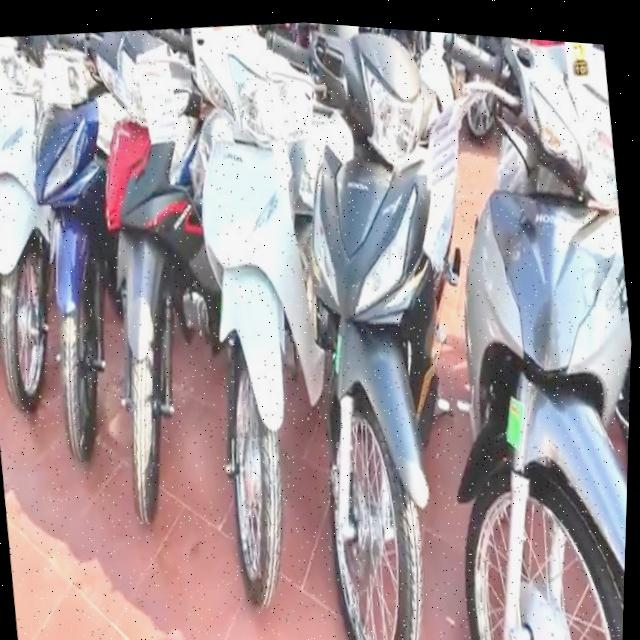motorcycle: (259, 21, 511, 640), (407, 31, 640, 640), (164, 37, 349, 625), (61, 37, 236, 546), (0, 24, 163, 543)
